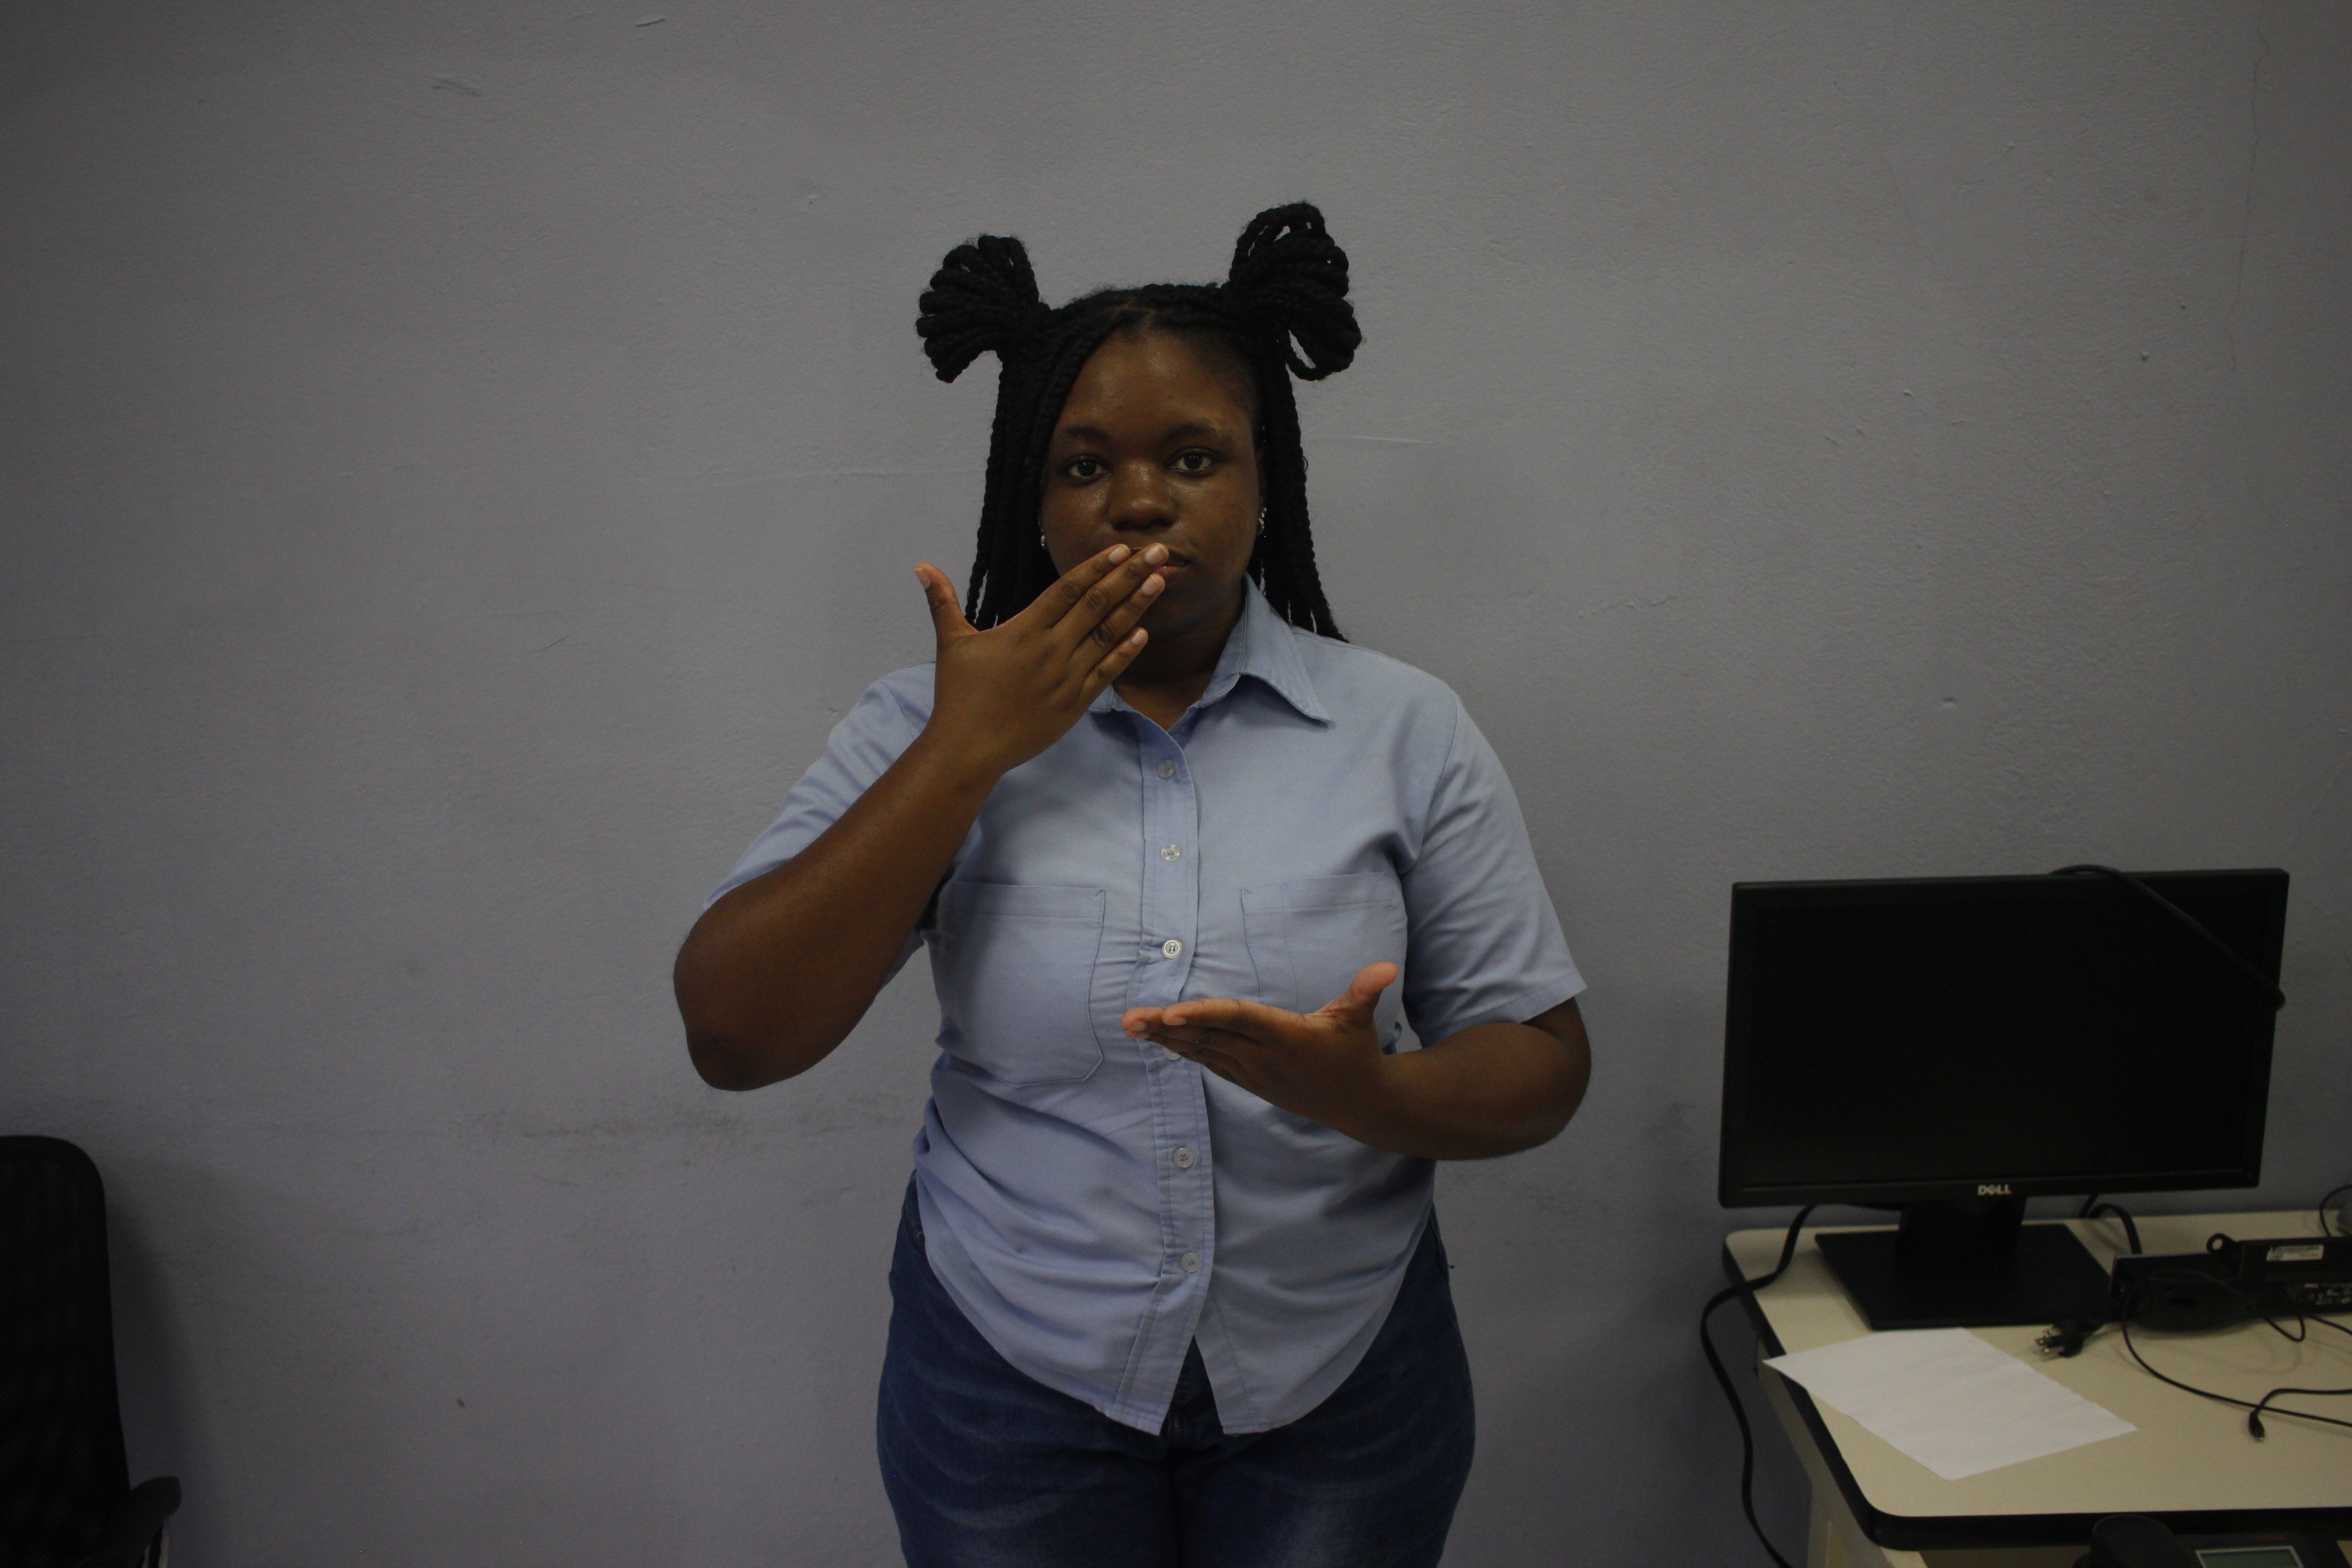good: (906, 541, 1409, 1108)
